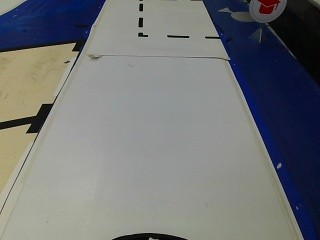school: (246, 0, 285, 22)
